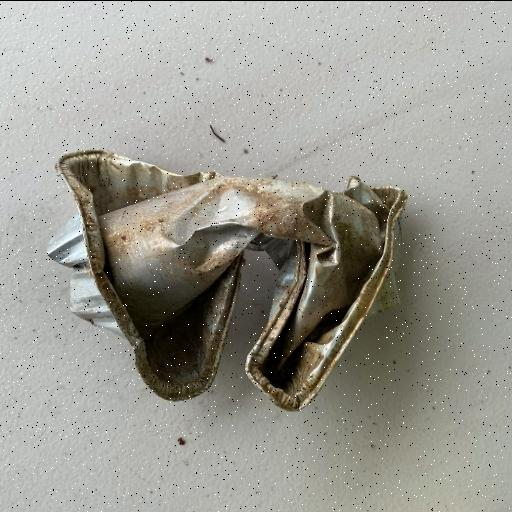Metal: (46, 148, 408, 412)
